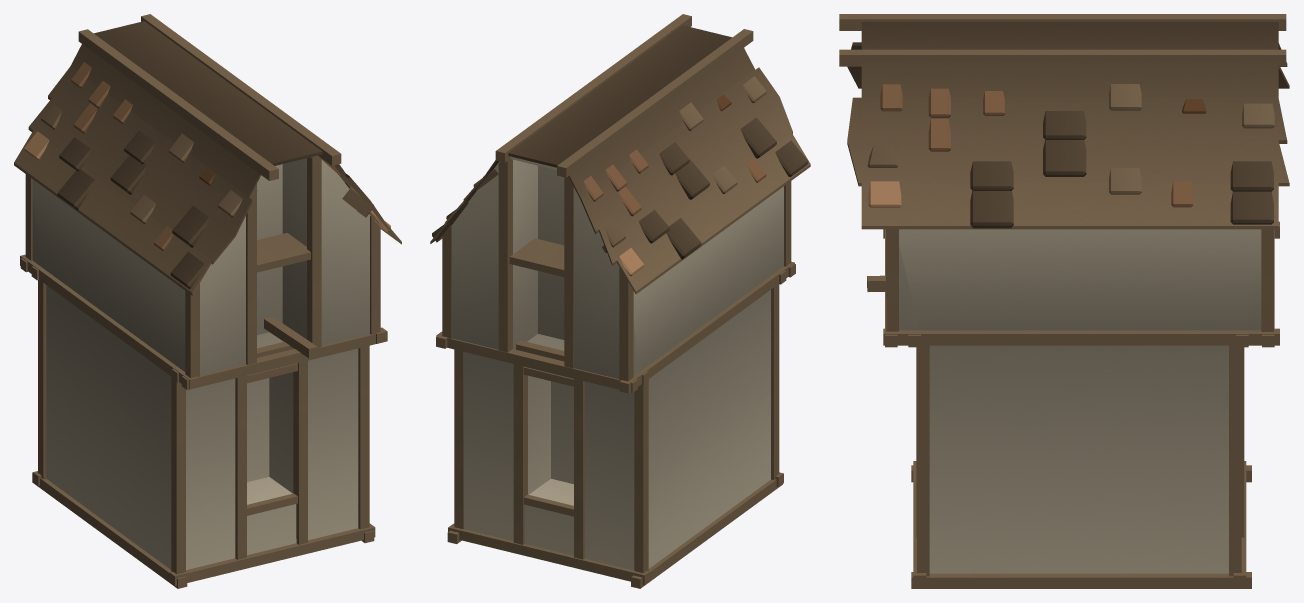
File: ZLP_Build_A_6.FBX
3 views of the same model, side by side, from view 1: azimuth 30°, elevation 25°; view 2: azimuth 150°, elevation 25°; view 3: azimuth 270°, elevation 25° (orthographic). The views are drawn at different scales.
Parts seen in each view (by area): view 1: ZLP_Build_A_6; view 2: ZLP_Build_A_6; view 3: ZLP_Build_A_6.
Part boxes in pixels (box(x1,y1,x2,y2)): ZLP_Build_A_6: box(14, 14, 401, 588); ZLP_Build_A_6: box(430, 14, 810, 588); ZLP_Build_A_6: box(839, 14, 1289, 588).
Bounding box in the file's own units: 768 × 1440 × 1180.
